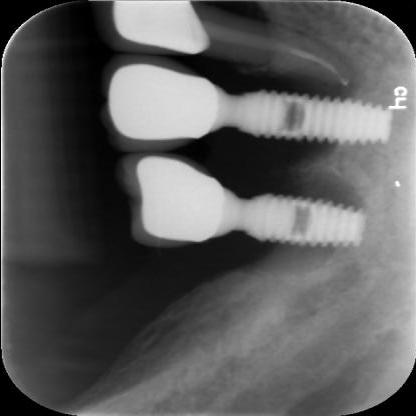Bicon: (212, 87, 396, 141), (211, 192, 365, 248)
